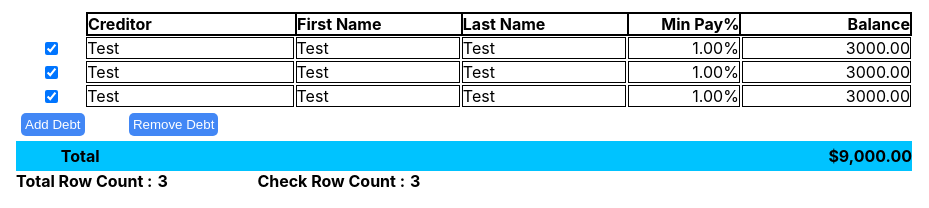
React Tests › If a user clicks all checkmarks such that they are unchecked, the total should be 0, check row count 0, and total row count the number of rows.
What coordinates should you click on to do the following:
click the 1st checkbox
I would click on:
 (51, 48)
Its box is [45,42,58,54].
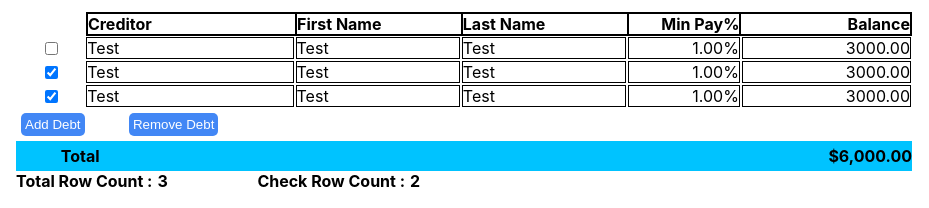
What coordinates should you click on to do the following:
click the 2nd checkbox
I would click on:
 (51, 72)
Its box is [45,66,58,78].
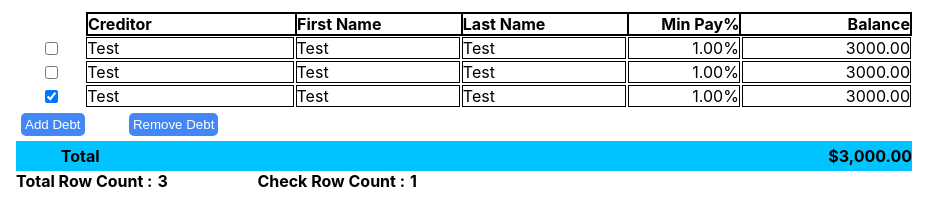
What coordinates should you click on to do the following:
click the 3rd checkbox
I would click on:
 (51, 96)
Its box is [45,90,58,102].
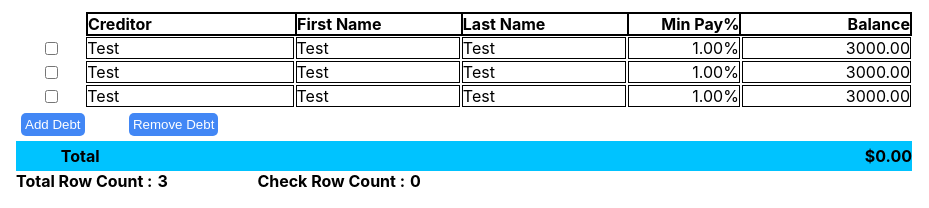
Expected: the text with test id "rowCount" reads "3", [158,171,168,191]
Expected: the text with test id "checkCount" reads "0", [410,171,421,191]
Expected: the text with test id "totalCount" reads "$0.00", [865,146,912,166]
